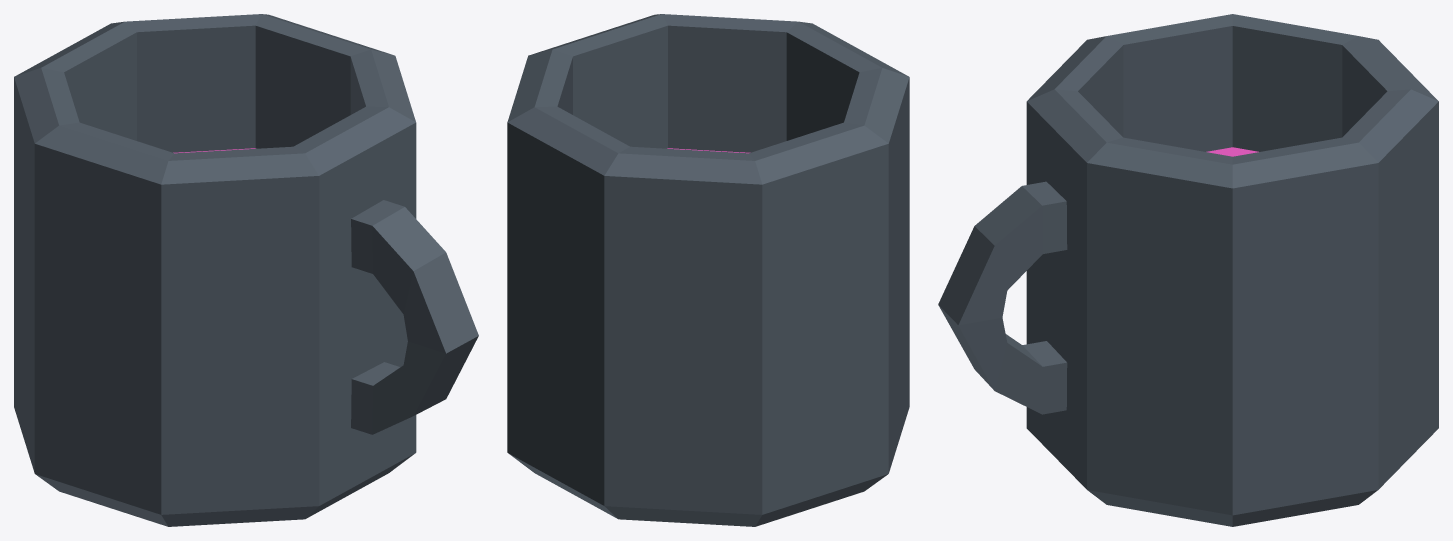
File: Gray_Mug.fbx
3 renders of one model, left to right at view 1: azimuth 30°, elevation 25°; view 2: azimuth 150°, elevation 25°; view 3: azimuth 270°, elevation 25°, orthographic.
Visible parts, largest first — view 1: Gray_Mug; view 2: Gray_Mug; view 3: Gray_Mug.
Part boxes in pixels (bbox=[...]): Gray_Mug: bbox=[14, 14, 478, 526]; Gray_Mug: bbox=[507, 14, 909, 526]; Gray_Mug: bbox=[938, 14, 1438, 526].
Size of the model in its own units: 54.77 by 53.12 by 66.53.
